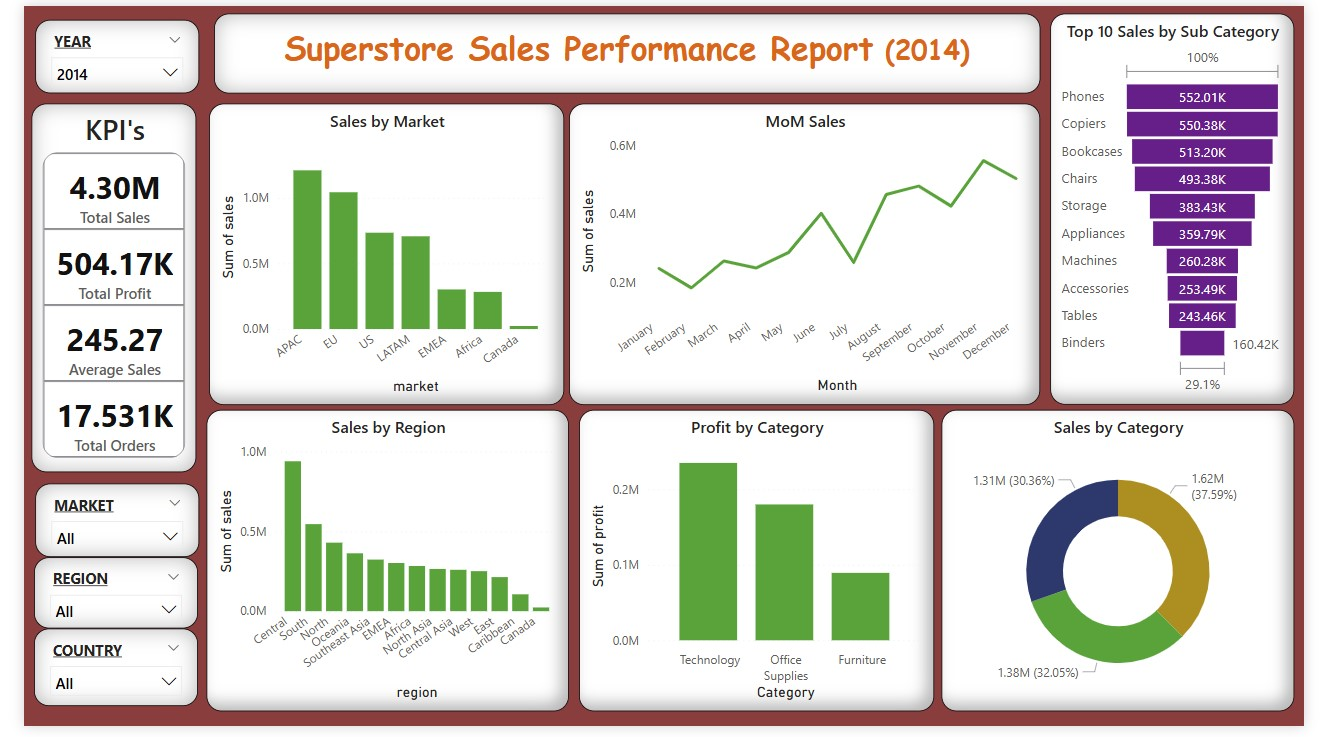

The page's visual inventory and layout, read from the dashboard file:
{"tool":"powerbi","page":{"name":"2014 Sales","canvas":[1280,720],"ordinal":1},"visuals":[{"type":"columnChart","title":"Sales by Region","fields":{"Category":["Orders.region"],"Y":["Sum(Orders.sales)"]},"box":[182.5,403.8,362.5,301.2],"z":0},{"type":"clusteredColumnChart","title":"Profit by Category","fields":{"Y":["Sum(Orders.profit)"],"Series":["Orders.year"],"Category":["Orders.category"]},"box":[555,403.8,355,301.2],"z":1000},{"type":"columnChart","title":"Sales by Market","fields":{"Category":["Orders.market"],"Y":["Sum(Orders.sales)"]},"box":[185.3,97.5,355,301.2],"z":2000},{"type":"cardVisual","title":"KPI''s","fields":{"Data":["Sum(Orders.sales)","Sum(Orders.profit)","Orders.Avg_Sales","CountNonNull(Orders.order_id)"]},"box":[7.5,97.5,165,368.8],"z":3000},{"type":"slicer","fields":{"Values":["Orders.region"]},"box":[10.5,550.7,163.8,71.2],"z":4000},{"type":"textbox","box":[190,7.5,826.2,80],"z":5000},{"type":"slicer","fields":{"Values":["Orders.country"]},"box":[10.5,622,163.8,77.5],"z":6000},{"type":"slicer","fields":{"Values":["Orders.market"]},"box":[11.8,477,163.8,73.8],"z":7000},{"type":"funnel","title":"Top 10 Sales by Sub Category","fields":{"Category":["Orders.sub_category"],"Y":["Sum(Orders.sales)"]},"box":[1026.2,7.5,243.8,391.2],"z":8000},{"type":"donutChart","title":"Sales by Category","fields":{"Y":["Sum(Orders.sales)"],"Category":["Orders.category"]},"box":[917.5,403.8,352.5,301.2],"z":9000},{"type":"lineChart","title":"MoM Sales","fields":{"Category":["Orders.order_date.Variation.Date Hierarchy.Month"],"Y":["Sum(Orders.sales)"],"Series":["Orders.year"]},"box":[545,97.5,471.2,301.2],"z":10000},{"type":"slicer","fields":{"Values":["Orders.year"]},"box":[11.2,13.8,163.8,73.8],"z":11000}]}

Visuals, with their boxes in screenshot pixels (x1, y1, x2, y2), scaled from the page's 1280x720 canvas onto the 1323x737 screenshot:
"Sales by Region" columnChart: x1=189 y1=413 x2=563 y2=722
"Profit by Category" clusteredColumnChart: x1=574 y1=413 x2=941 y2=722
"Sales by Market" columnChart: x1=192 y1=100 x2=558 y2=408
"KPI''s" cardVisual: x1=8 y1=100 x2=178 y2=477
slicer - Orders.region: x1=11 y1=564 x2=180 y2=637
textbox: x1=196 y1=8 x2=1050 y2=90
slicer - Orders.country: x1=11 y1=637 x2=180 y2=716
slicer - Orders.market: x1=12 y1=488 x2=181 y2=564
"Top 10 Sales by Sub Category" funnel: x1=1061 y1=8 x2=1313 y2=408
"Sales by Category" donutChart: x1=948 y1=413 x2=1313 y2=722
"MoM Sales" lineChart: x1=563 y1=100 x2=1050 y2=408
slicer - Orders.year: x1=12 y1=14 x2=181 y2=90
